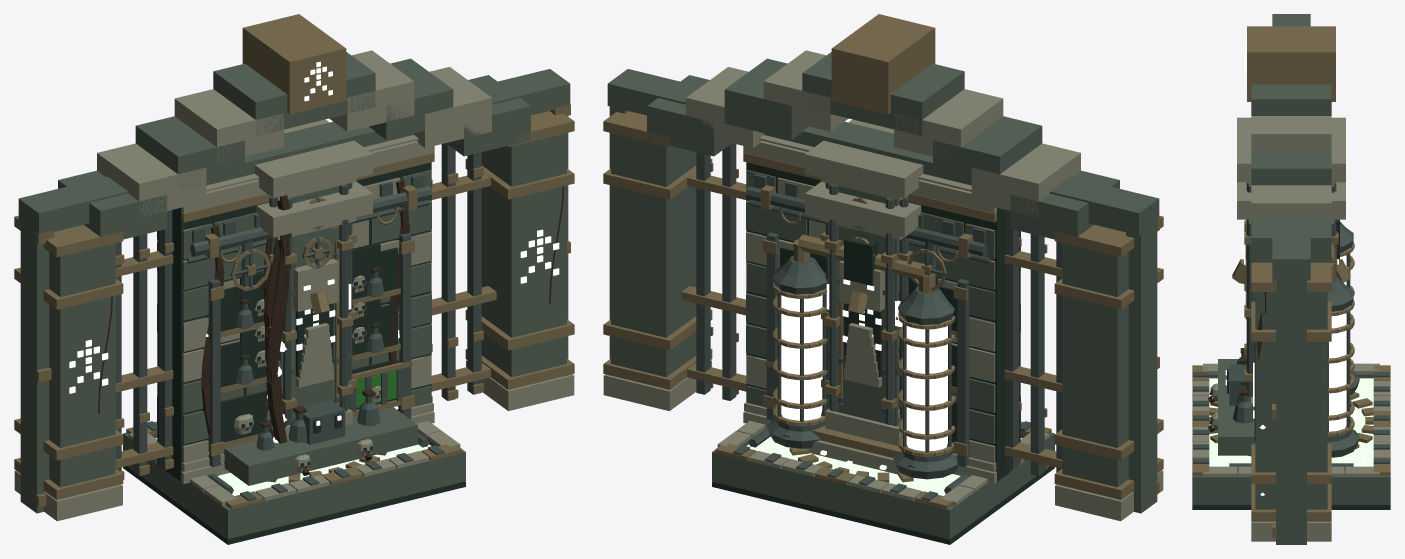
The model's file is plagueworks-kit.glb.
The picture shows the model from 3 angles, left to right: view 1: azimuth 30°, elevation 25°; view 2: azimuth 150°, elevation 25°; view 3: azimuth 270°, elevation 25°; orthographic projection. The views are drawn at different scales.
Visible parts, largest first — view 1: arch-stone, alcove-stone, gate-leaf, gate-stone, guardian-stone, pool-stone, wall-stone, pillar-stone, landmark-stone, arch-glow, pool-water; view 2: arch-stone, alcove-stone, guardian-stone, gate-leaf, gate-stone, pool-stone, landmark-stone, wall-stone, pillar-stone, landmark-glow, pool-water, checkpoint-stone; view 3: arch-stone, gate-stone, pool-stone, landmark-stone, guardian-stone, pillar-stone, pool-water, landmark-glow, checkpoint-stone.
Boxes of the visible parts, x1,y1,x2,y2 form: arch-stone: [14, 14, 574, 521]; alcove-stone: [154, 135, 434, 483]; gate-leaf: [115, 143, 496, 479]; gate-stone: [18, 69, 570, 513]; guardian-stone: [256, 181, 372, 443]; pool-stone: [123, 421, 465, 544]; wall-stone: [157, 170, 431, 475]; pillar-stone: [254, 119, 372, 443]; landmark-stone: [223, 389, 417, 485]; arch-glow: [69, 61, 559, 393]; pool-water: [156, 438, 431, 495]; arch-stone: [603, 14, 1163, 521]; alcove-stone: [743, 135, 1023, 483]; guardian-stone: [805, 181, 921, 474]; gate-leaf: [681, 143, 1062, 476]; gate-stone: [607, 69, 1159, 513]; pool-stone: [712, 421, 1054, 544]; landmark-stone: [767, 234, 957, 479]; wall-stone: [746, 170, 1020, 471]; pillar-stone: [805, 119, 923, 425]; landmark-glow: [781, 295, 947, 451]; pool-water: [746, 436, 1021, 495]; checkpoint-stone: [789, 447, 913, 482]; arch-stone: [1247, 26, 1335, 541]; gate-stone: [1272, 14, 1310, 544]; pool-stone: [1192, 363, 1390, 509]; landmark-stone: [1208, 219, 1359, 457]; guardian-stone: [1232, 182, 1350, 410]; pillar-stone: [1237, 117, 1345, 396]; pool-water: [1209, 378, 1373, 466]; landmark-glow: [1225, 255, 1346, 431]; checkpoint-stone: [1209, 392, 1373, 456].
Bounding box in the file's own units: 8.49 × 6.7 × 2.9.
